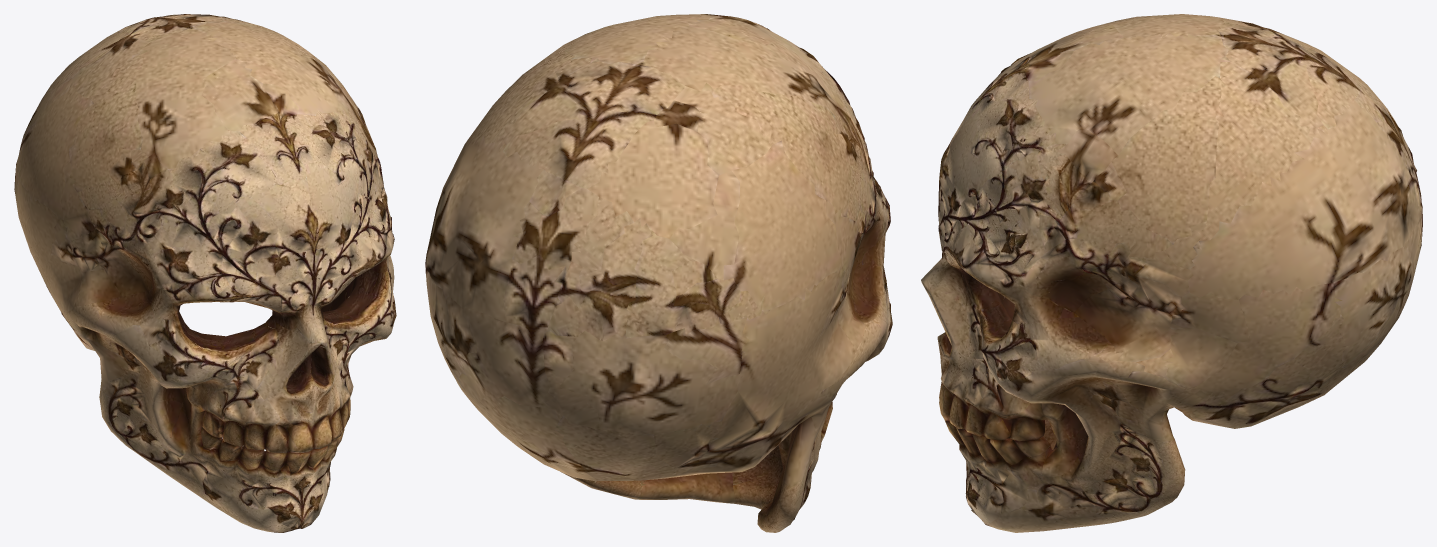
The picture shows the model from 3 angles, left to right: view 1: azimuth 30°, elevation 25°; view 2: azimuth 150°, elevation 25°; view 3: azimuth 270°, elevation 25°; orthographic projection. The views are drawn at different scales.
Size of the model in its own units: 1.36 by 1.9 by 1.77.
Materials: 1 (1 with a texture image).
